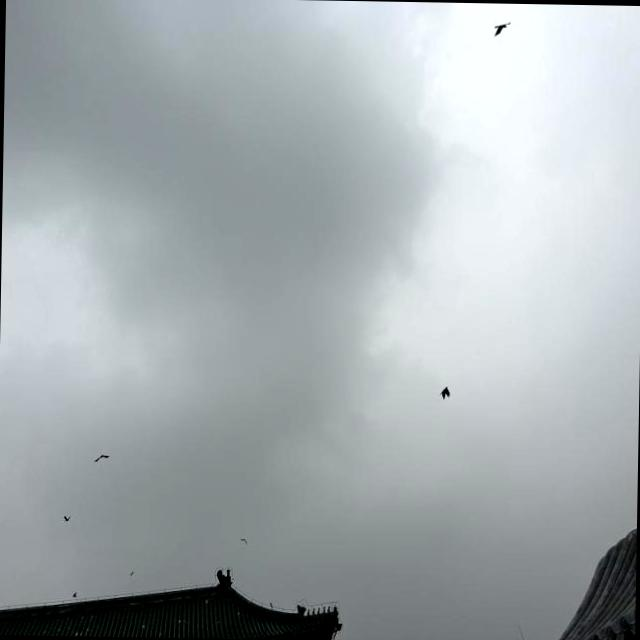bird: (488, 14, 512, 40), (91, 449, 116, 471), (434, 383, 454, 408), (60, 512, 76, 527)
